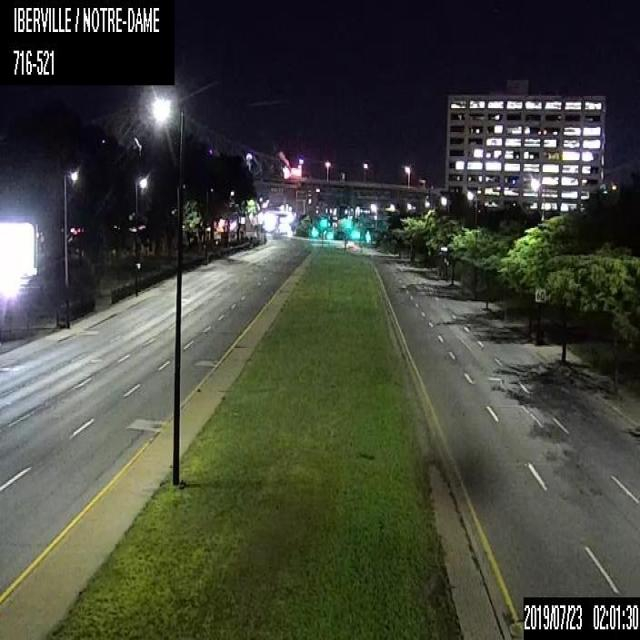vehicle: (342, 240, 354, 247)
